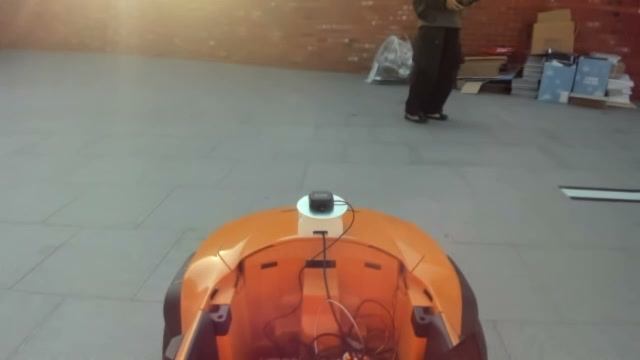Lane: (558, 187, 639, 202)
